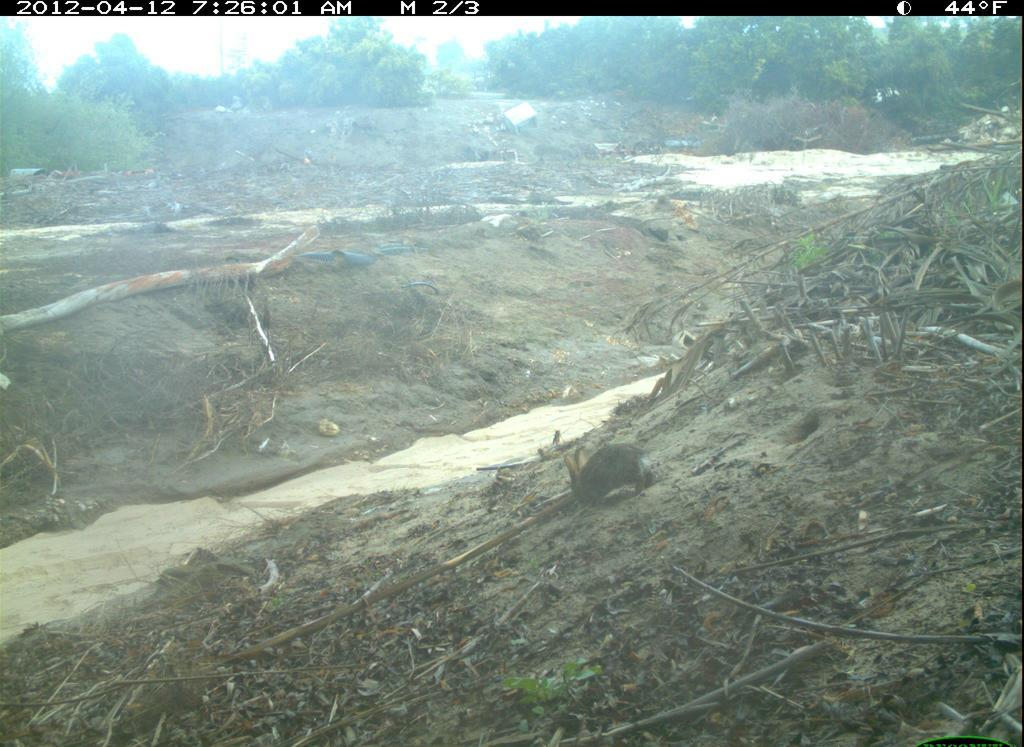rabbit: (556, 437, 658, 509)
